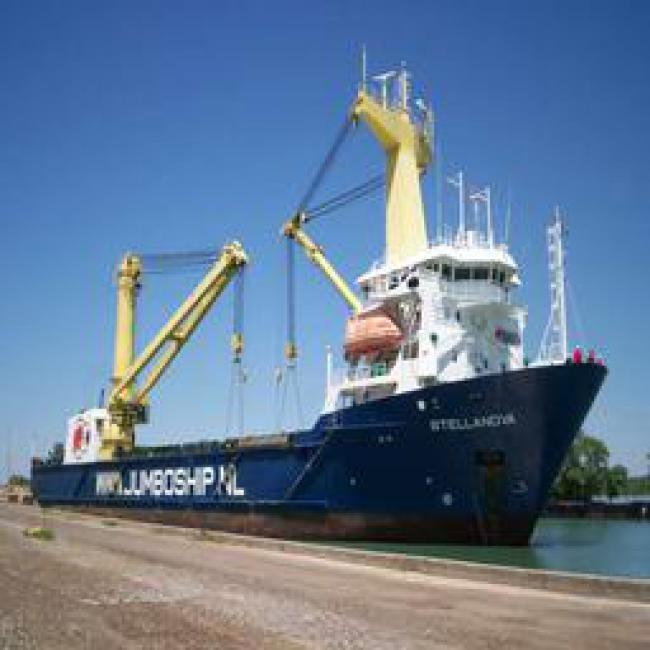Ship: (95, 313, 580, 549)
